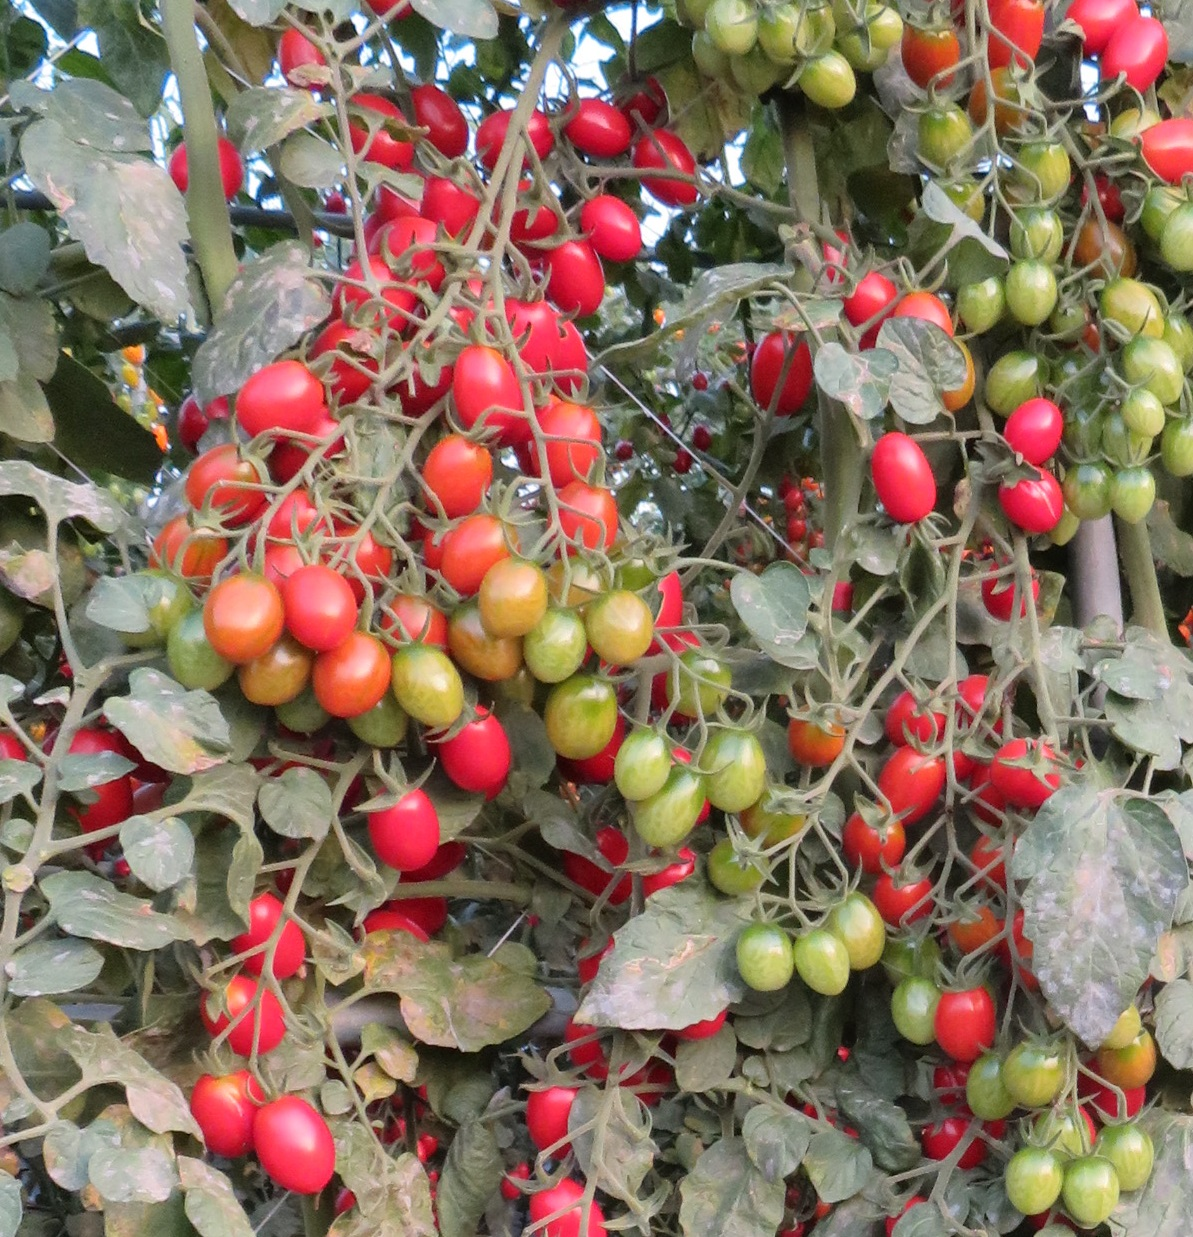green: (384, 652, 481, 731), (542, 677, 620, 766), (476, 553, 552, 643), (701, 727, 766, 815), (1098, 1111, 1158, 1191), (592, 590, 650, 672), (728, 921, 793, 993), (521, 609, 581, 684), (1092, 279, 1160, 345), (997, 1149, 1062, 1217), (1119, 336, 1184, 402), (888, 982, 943, 1054), (1007, 254, 1064, 323), (788, 61, 861, 113), (612, 730, 667, 799), (655, 768, 705, 843), (792, 929, 847, 995), (1006, 1035, 1067, 1095), (990, 350, 1048, 412), (703, 832, 762, 891), (1011, 150, 1073, 207), (1065, 1153, 1110, 1229), (921, 108, 973, 173), (701, 1, 762, 56), (824, 886, 880, 944), (1110, 466, 1161, 529), (1070, 468, 1115, 530), (1115, 1045, 1164, 1099), (956, 277, 1003, 334), (965, 1062, 1014, 1117), (766, 2, 806, 63), (1157, 207, 1193, 273), (1125, 389, 1166, 441), (1014, 215, 1062, 260)
orange: (207, 565, 289, 659), (418, 431, 497, 518), (437, 508, 517, 594), (319, 631, 387, 716), (234, 649, 310, 713)
red: (864, 422, 943, 527), (253, 1104, 340, 1199), (226, 356, 326, 438), (433, 707, 519, 797), (362, 787, 451, 871), (279, 557, 360, 644), (237, 897, 313, 990), (453, 340, 520, 436), (193, 1074, 263, 1157), (543, 235, 608, 320), (580, 193, 650, 271), (751, 328, 814, 411), (1104, 15, 1173, 89), (561, 94, 638, 157), (931, 986, 996, 1059), (1011, 391, 1069, 467), (531, 1178, 604, 1237), (883, 750, 938, 825), (846, 811, 906, 877), (525, 1086, 583, 1153), (1001, 458, 1058, 527)
